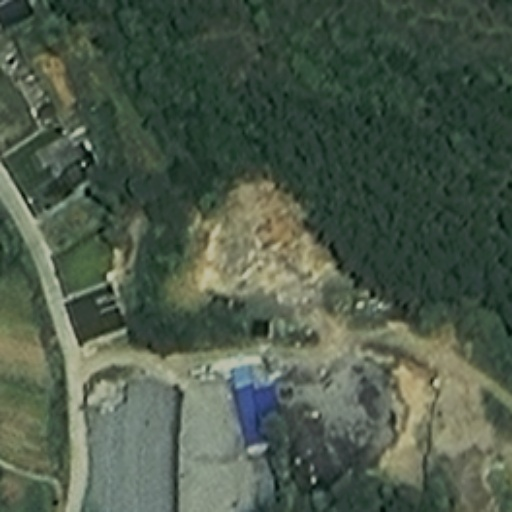landslide: (190, 178, 333, 310)
